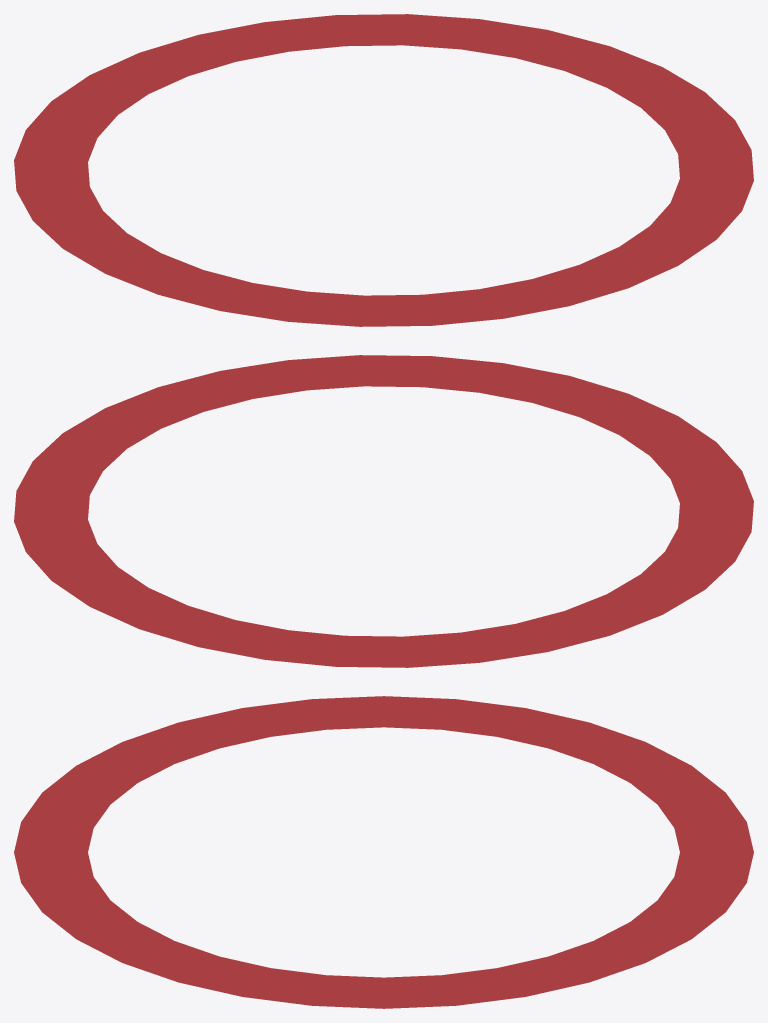
The model's file is danger_ring.glb.
3 views of the same model, one above another, from view 1: azimuth 30°, elevation 25°; view 2: azimuth 150°, elevation 25°; view 3: azimuth 270°, elevation 25° (orthographic).
Visible parts, largest first — view 1: effect; view 2: effect; view 3: effect.
Boxes of the visible parts, box(x1,y1,x2,y2) form: effect: box(14, 14, 753, 326); effect: box(14, 355, 753, 667); effect: box(14, 696, 753, 1008).
Size of the model in its own units: 2 by 0 by 2.
